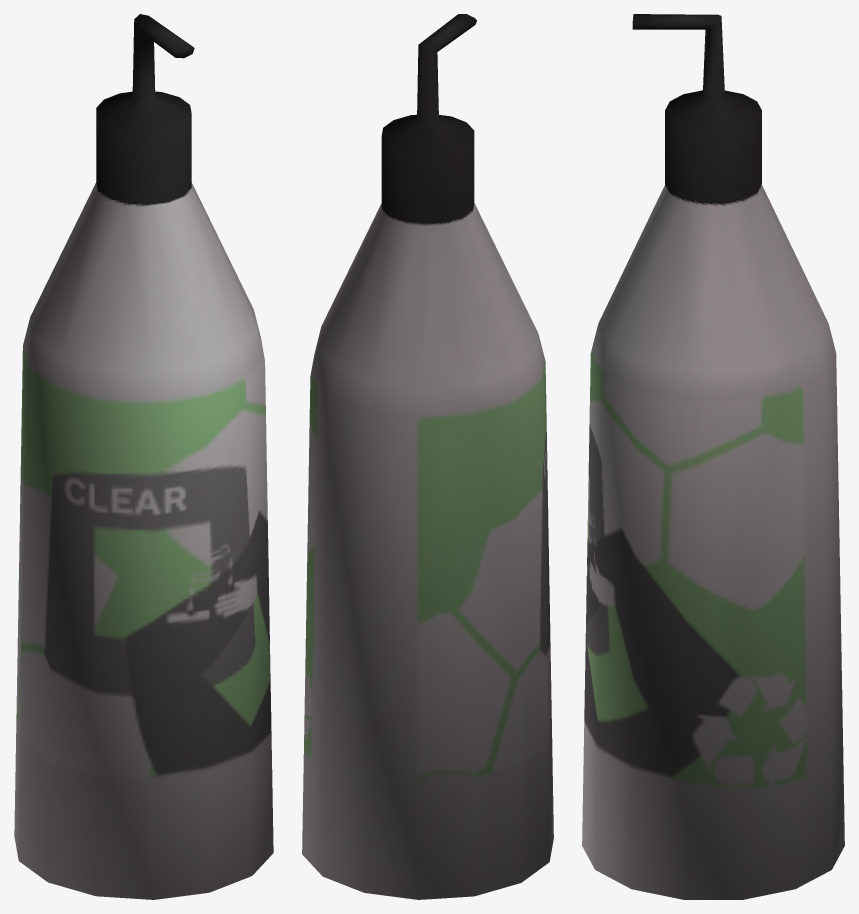
The model's file is SM_Office_Sanitizer.FBX.
3 views of the same model, side by side, from view 1: azimuth 30°, elevation 25°; view 2: azimuth 150°, elevation 25°; view 3: azimuth 270°, elevation 25° (orthographic). The views are drawn at different scales.
Parts seen in each view (by area): view 1: SM_Office_Sanitizer; view 2: SM_Office_Sanitizer; view 3: SM_Office_Sanitizer.
Boxes of the visible parts, x1,y1,x2,y2 form: SM_Office_Sanitizer: (14, 14, 273, 899); SM_Office_Sanitizer: (302, 14, 553, 899); SM_Office_Sanitizer: (582, 14, 844, 899).
Bounding box in the file's own units: 5.93 × 6.08 × 21.41.
